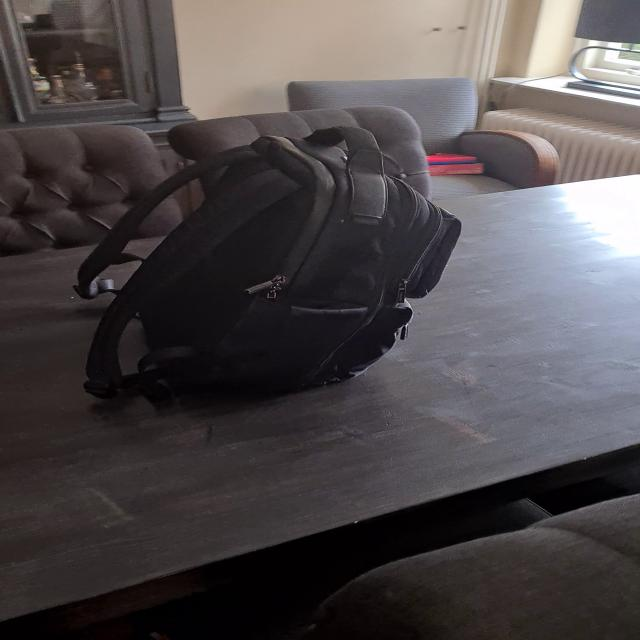backpack: (63, 99, 470, 411)
